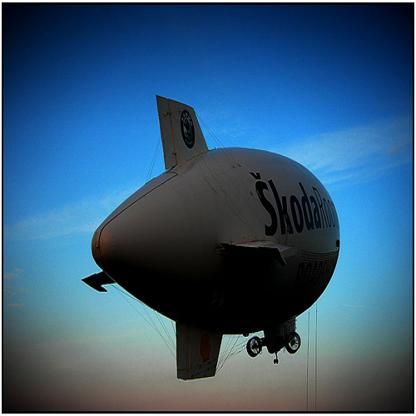Airship: (76, 90, 343, 382)
